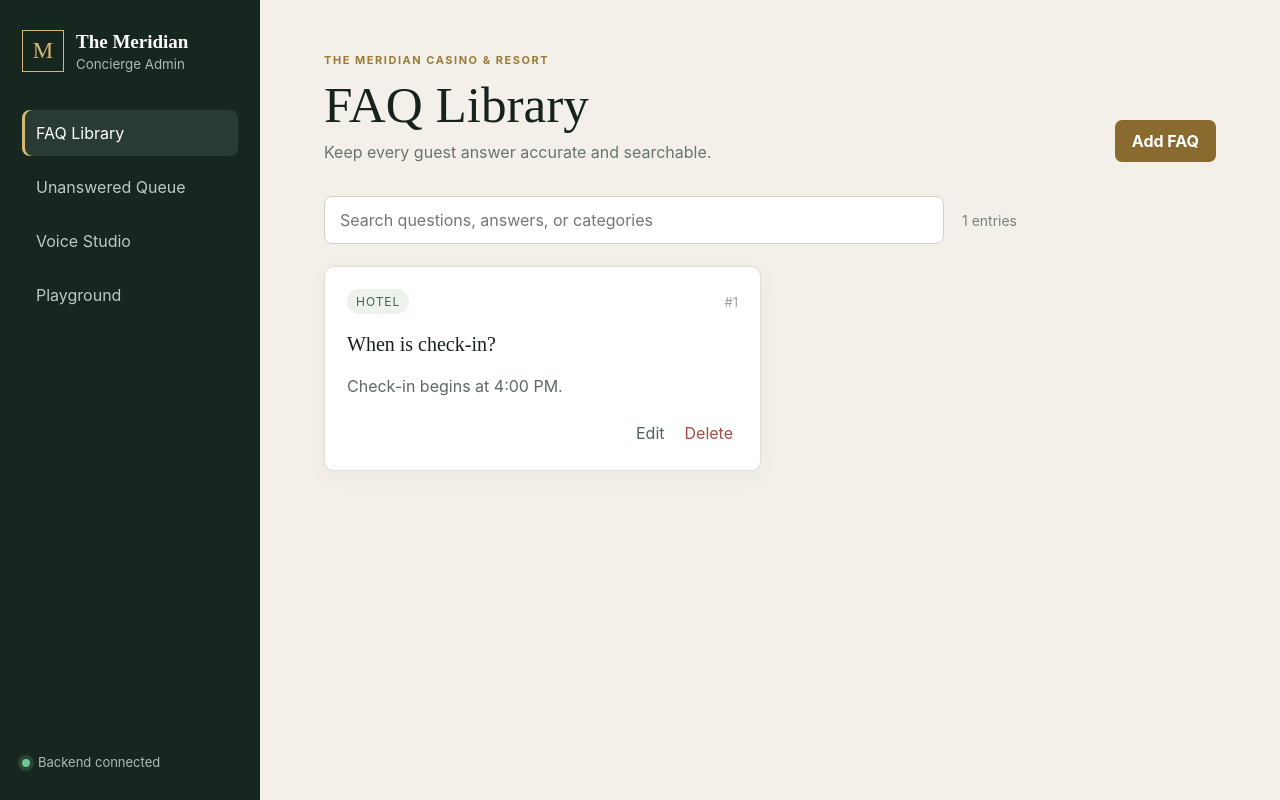
Test: Meridian admin › keeps the previous active badge when activation fails
Expected: the heading "When is check-in?" is shown, [347,333,496,355]
Click the button "Voice Studio".
click(130, 241)  # box [22,218,238,264]
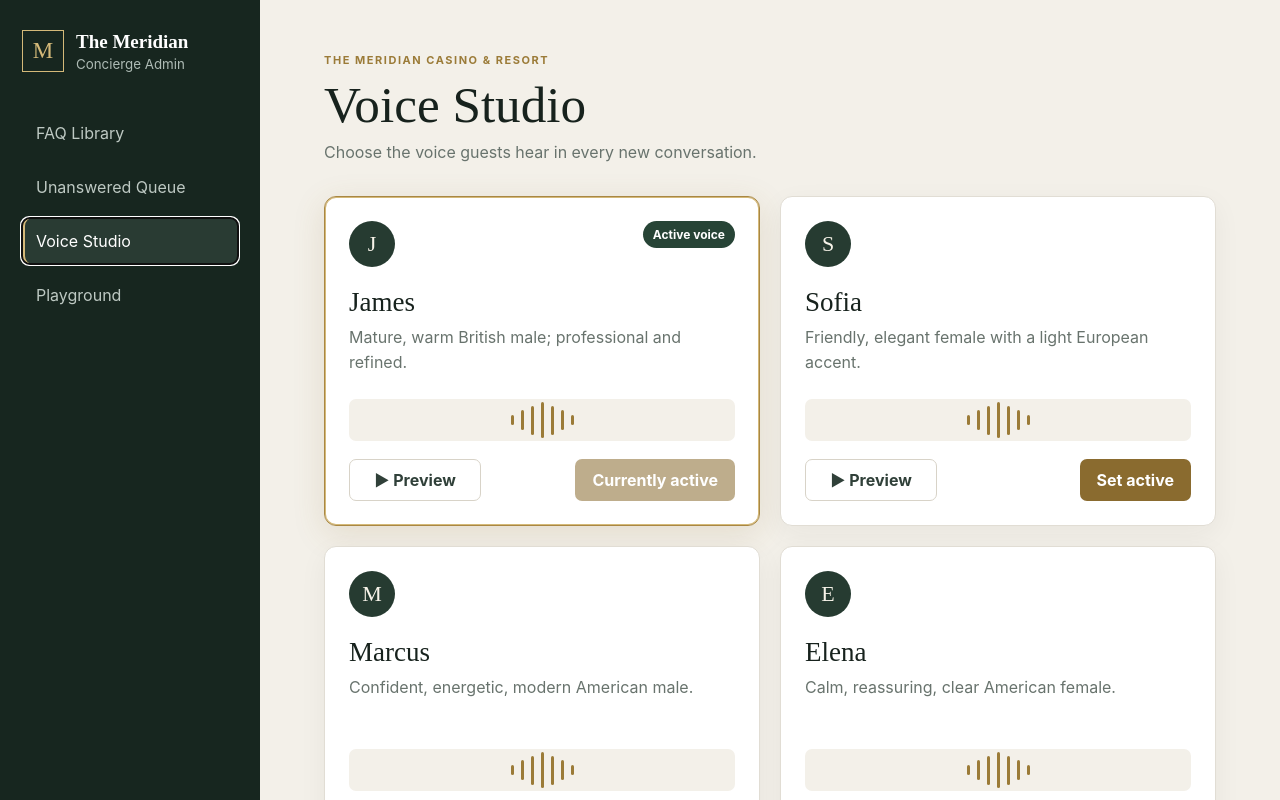
Click the button "Set active".
click(1135, 480)  # box [1080,459,1191,501]
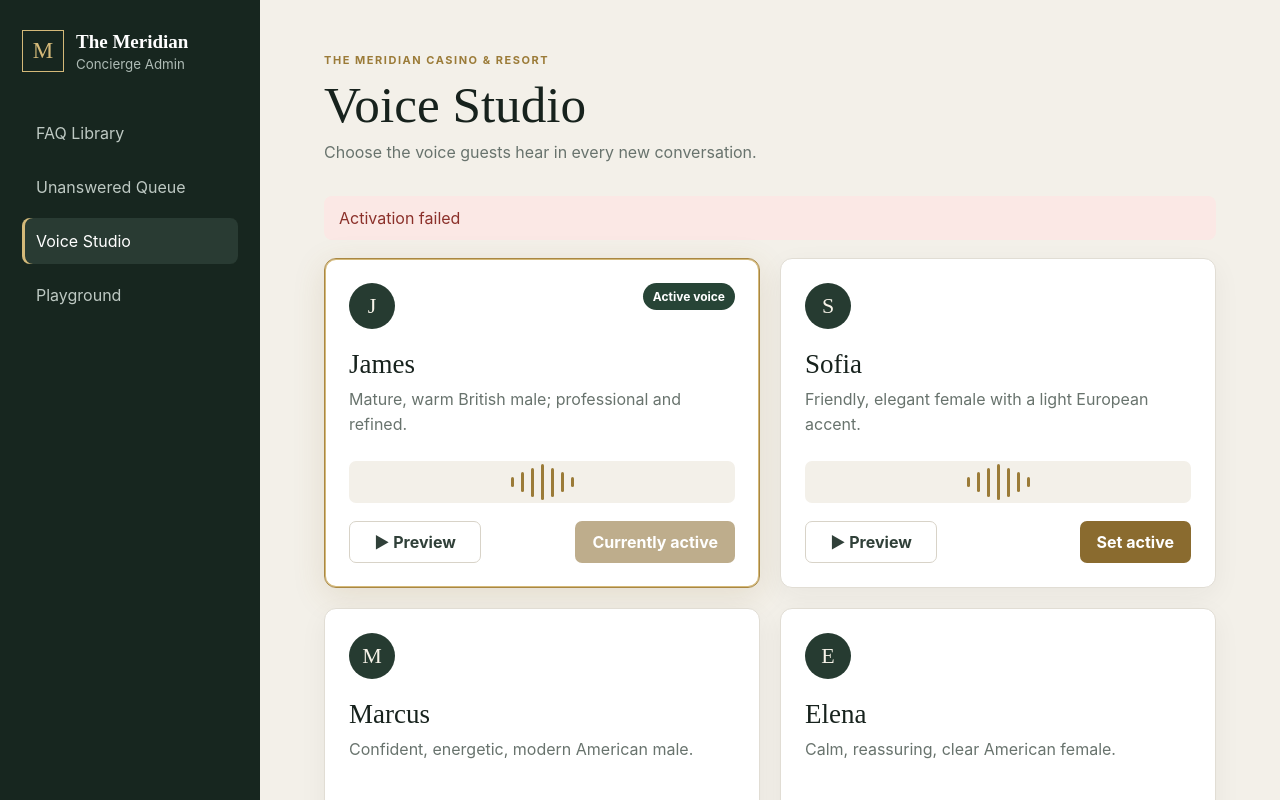
Expected: the text "Active voice" is shown, [643,283,735,310]
Expected: the message reads "Activation failed", [339,208,460,228]
